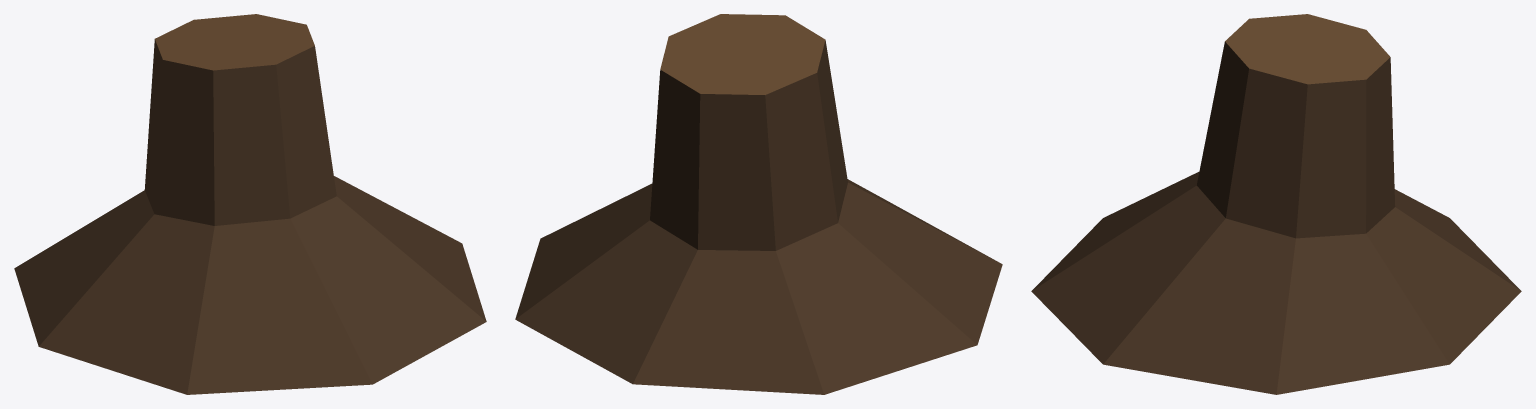
File: Tronco.fbx
3 renders of one model, left to right at view 1: azimuth 30°, elevation 25°; view 2: azimuth 150°, elevation 25°; view 3: azimuth 270°, elevation 25°, orthographic. The views are drawn at different scales.
Parts seen in each view (by area): view 1: Tronco; view 2: Tronco; view 3: Tronco.
Boxes of the visible parts, left/top/right/bottom form: Tronco: left=14, top=14, right=486, bottom=394; Tronco: left=515, top=14, right=1002, bottom=394; Tronco: left=1031, top=14, right=1521, bottom=394.
Bounding box in the file's own units: 129 × 72.68 × 129.
